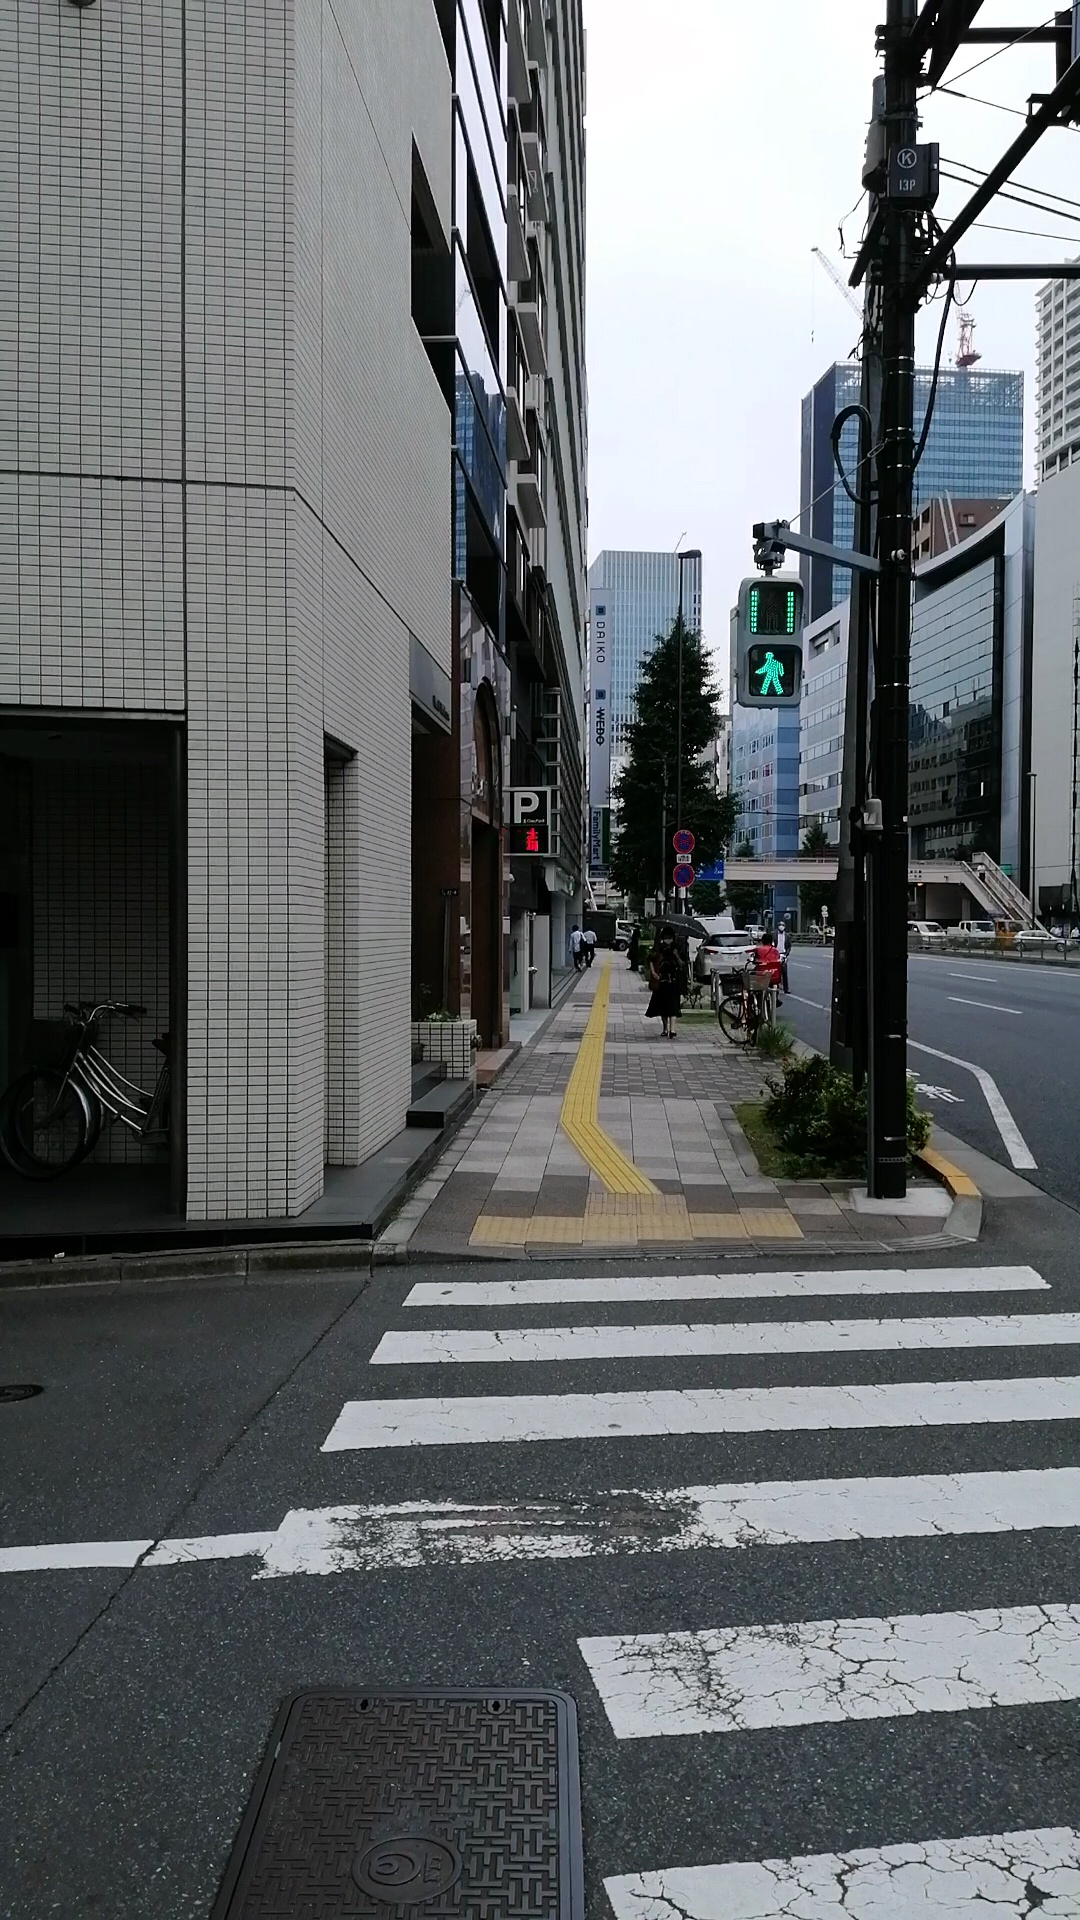green: (737, 576, 804, 707)
